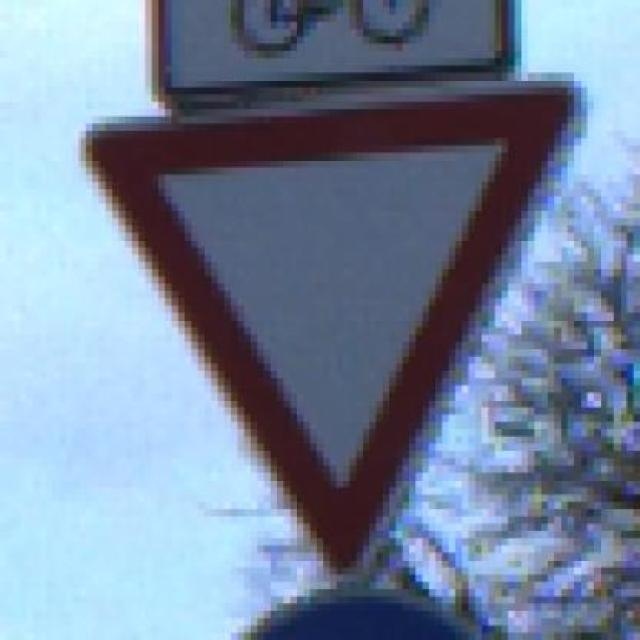Give Way: (59, 66, 601, 596)
